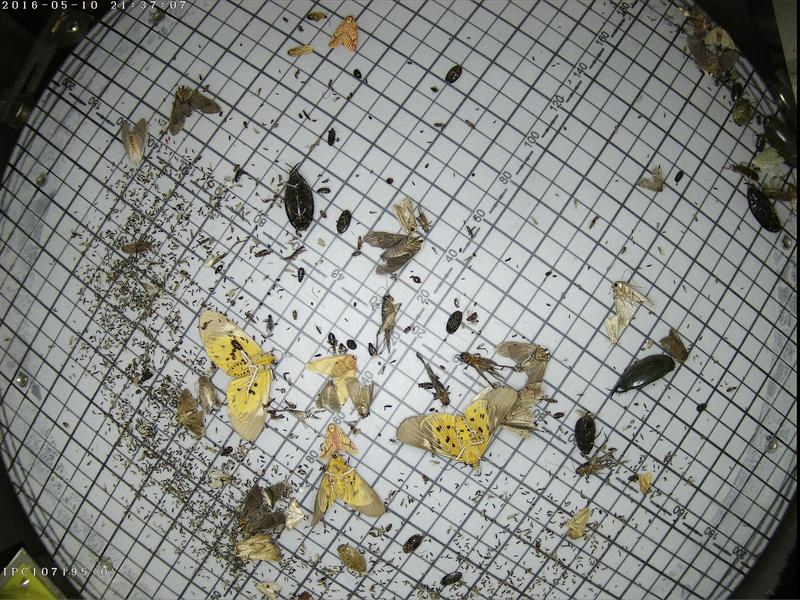Spodoptera litura: (610, 275, 648, 320)
